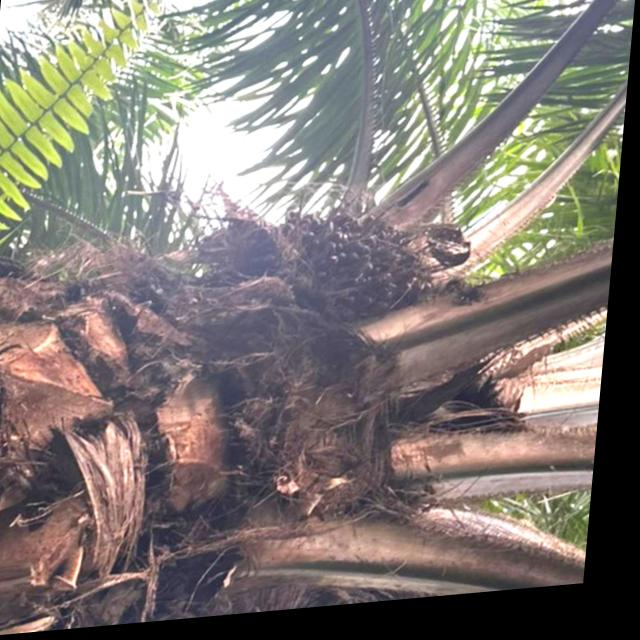ripe: (260, 200, 456, 352)
